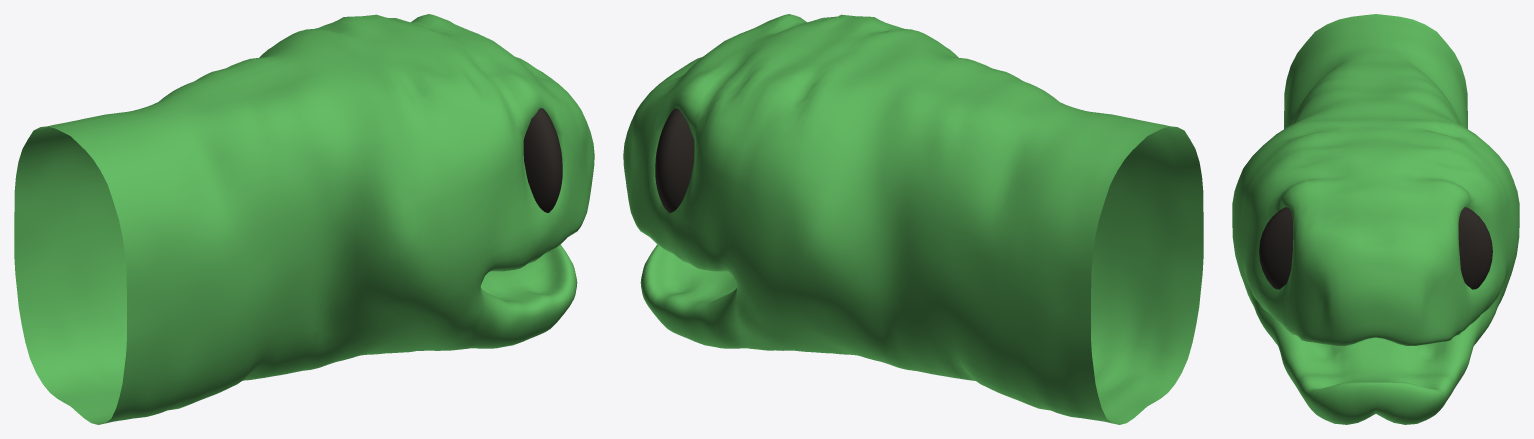
File: snake_head.glb
The picture shows the model from 3 angles, left to right: view 1: azimuth 30°, elevation 25°; view 2: azimuth 150°, elevation 25°; view 3: azimuth 270°, elevation 25°; orthographic projection. The views are drawn at different scales.
Visible parts, largest first — view 1: Snake_Skull, Snake_Eye; view 2: Snake_Skull, Snake_Eye; view 3: Snake_Skull, Snake_Eye.
Part boxes in pixels (left/top/right/bottom): Snake_Skull: left=14, top=14, right=594, bottom=424; Snake_Eye: left=523, top=108, right=562, bottom=212; Snake_Skull: left=623, top=14, right=1203, bottom=424; Snake_Eye: left=655, top=108, right=694, bottom=212; Snake_Skull: left=1232, top=14, right=1519, bottom=424; Snake_Eye: left=1259, top=207, right=1492, bottom=289.
Bounding box in the file's own units: 0.53 × 0.3 × 0.32.
